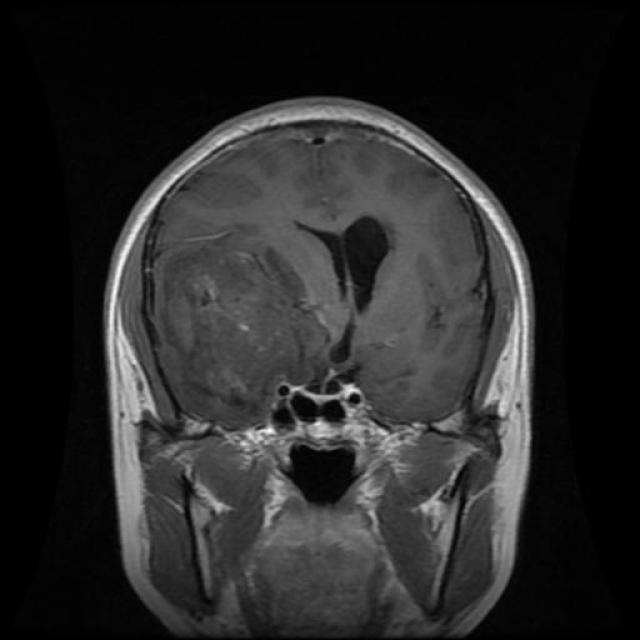glioma: (290, 211, 402, 321)
